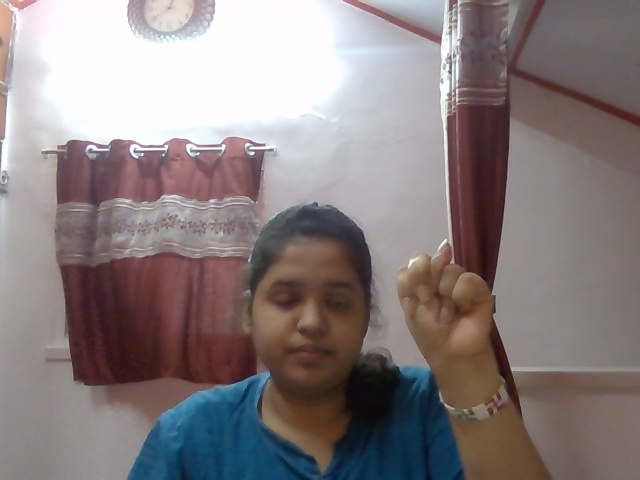n: (383, 235, 516, 370)
